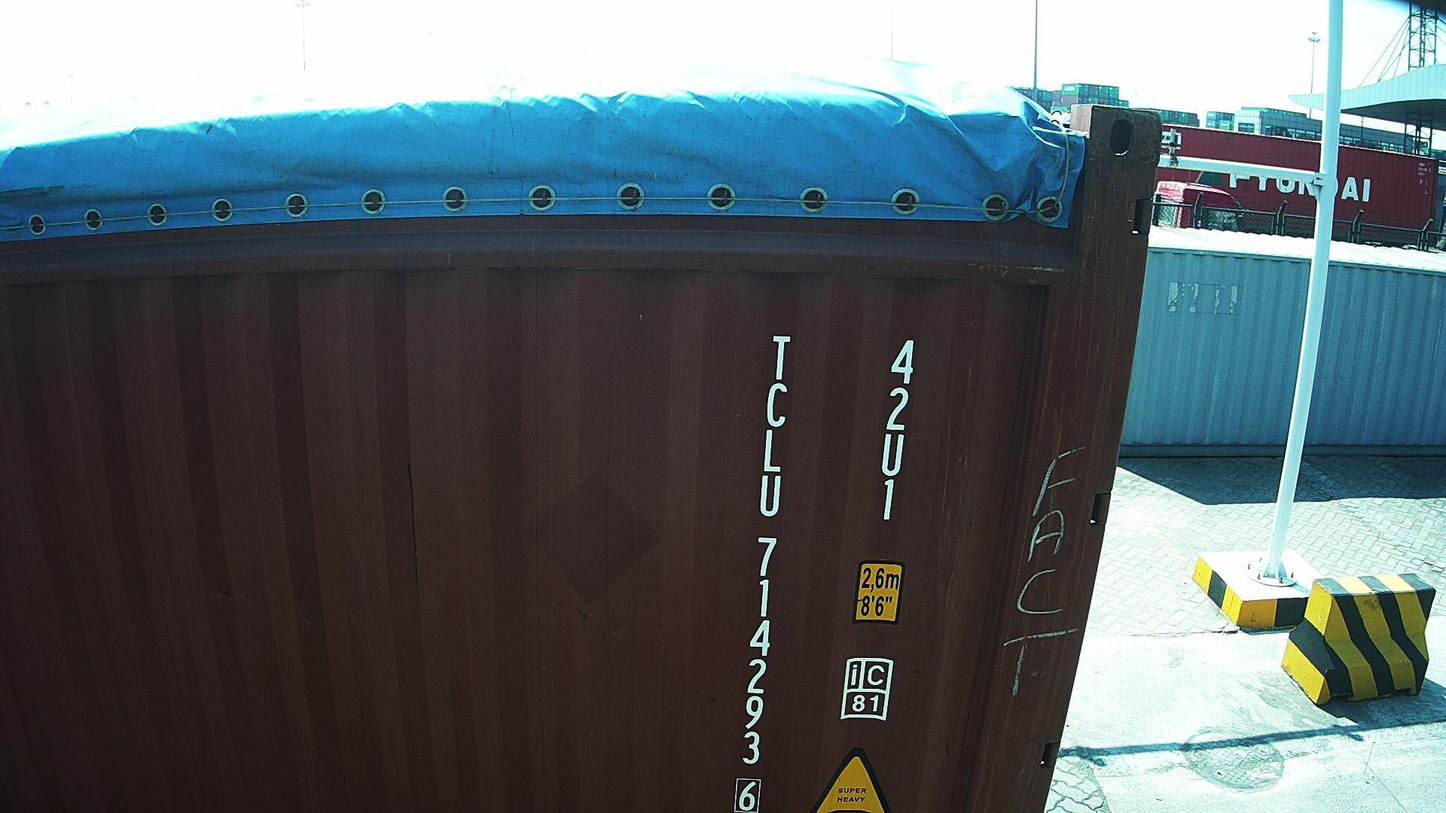container-numbers: (731, 330, 793, 809), (871, 333, 917, 528)
